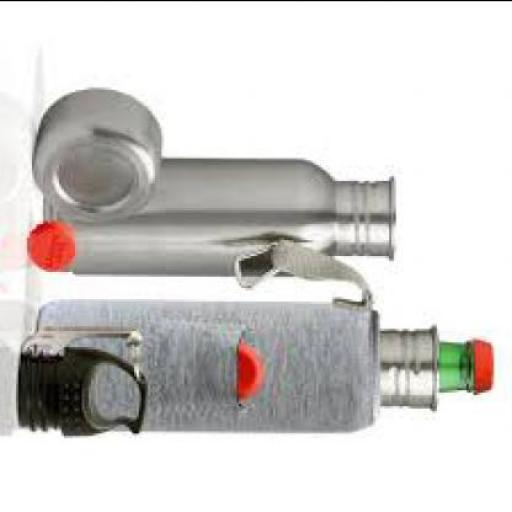glass: (444, 337, 473, 389)
metal: (41, 150, 334, 268), (34, 84, 164, 214), (337, 174, 398, 254), (387, 323, 441, 407)
plastic: (19, 344, 150, 434), (32, 219, 81, 268), (242, 342, 264, 398)
